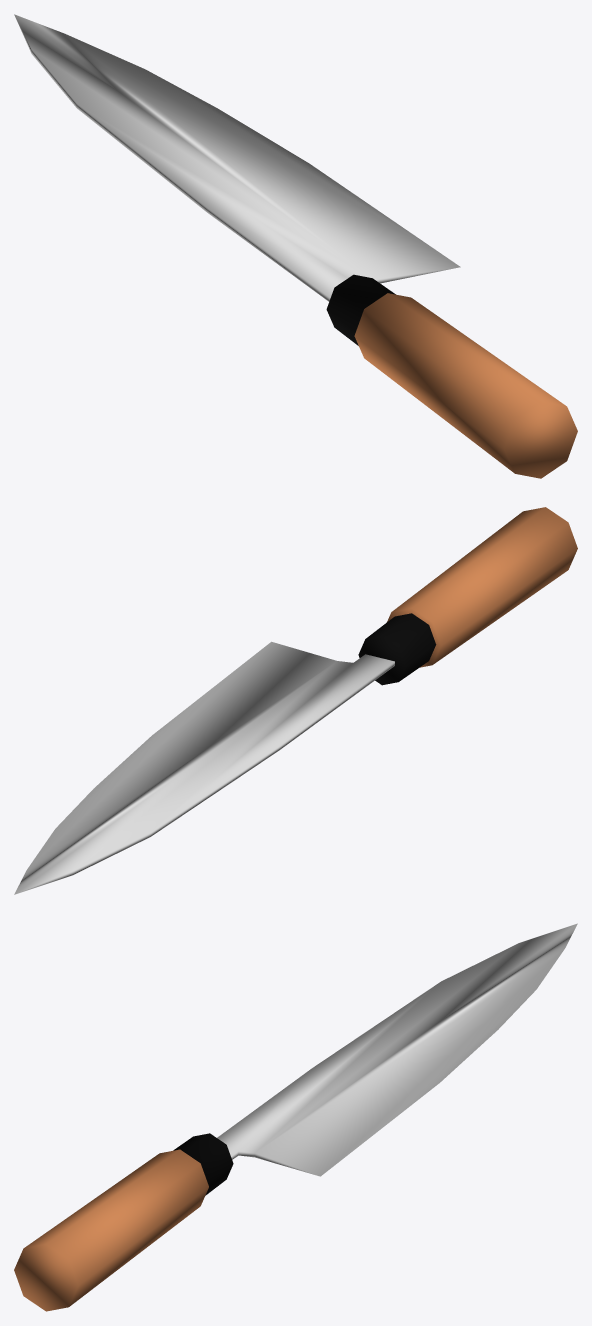
The model's file is KitchenKnife01.glb.
3 views of the same model, one above another, from view 1: azimuth 30°, elevation 25°; view 2: azimuth 150°, elevation 25°; view 3: azimuth 330°, elevation 25° (orthographic). The views are drawn at different scales.
Parts seen in each view (by area): view 1: Plane, Cylinder; view 2: Plane, Cylinder; view 3: Plane, Cylinder.
Boxes of the visible parts, left/top/right/bottom form: Plane: left=14, top=14, right=460, bottom=301; Cylinder: left=326, top=274, right=577, bottom=478; Plane: left=14, top=641, right=394, bottom=894; Cylinder: left=358, top=507, right=577, bottom=685; Plane: left=217, top=923, right=577, bottom=1176; Cylinder: left=14, top=1133, right=233, bottom=1311.
Size of the model in its own units: 0.1777 by 0.0851 by 1.14.
